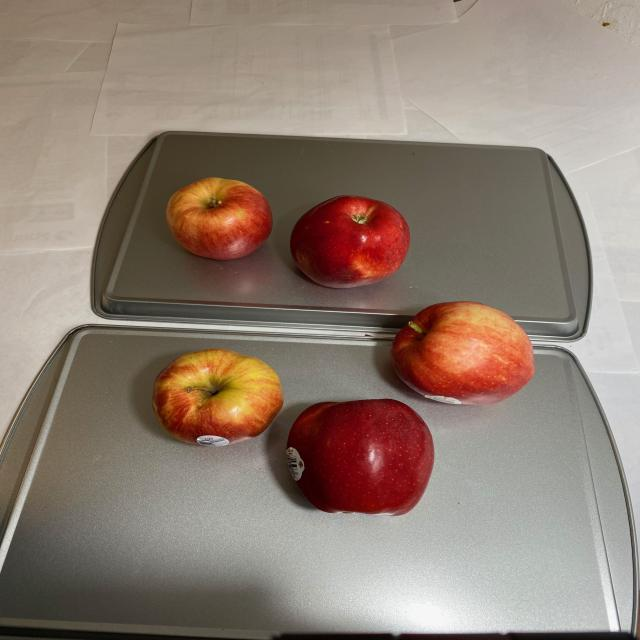apple: (152, 302, 540, 518), (164, 175, 415, 288)
